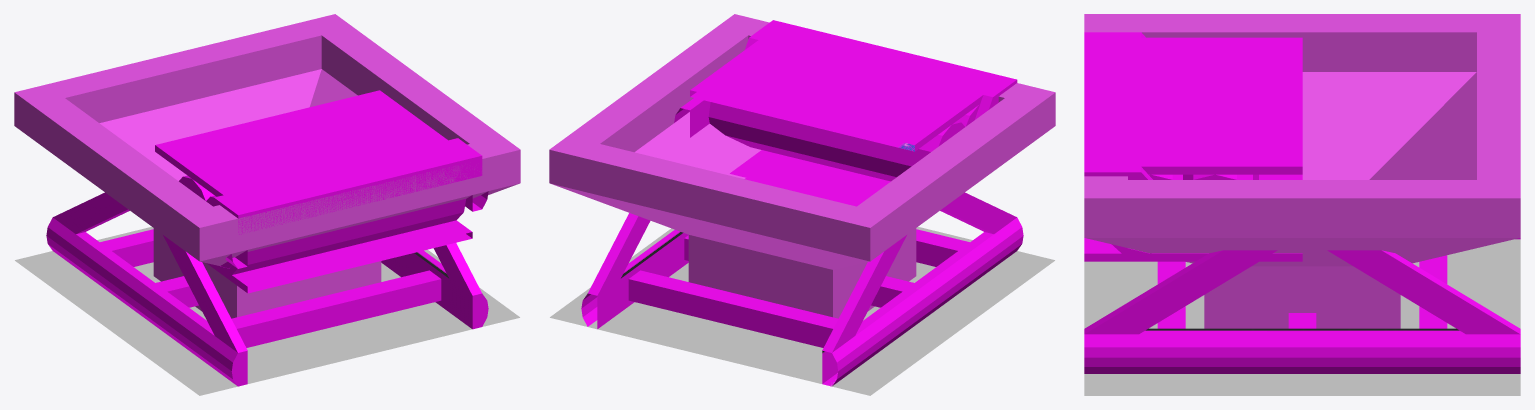
The model's file is conveyor.obj.
The picture shows the model from 3 angles, left to right: view 1: azimuth 30°, elevation 25°; view 2: azimuth 150°, elevation 25°; view 3: azimuth 270°, elevation 25°; orthographic projection. The views are drawn at different scales.
Visible parts, largest first — view 1: Conveyor_Hopper_chmdl, Support_smdl, Conveyor_Straight_csmdl, Reference_rplane, Conveyor_End_cemdl, Conveyor_End_Cap_cecmdl; view 2: Conveyor_Hopper_chmdl, Support_smdl, Conveyor_Straight_csmdl, Conveyor_End_cemdl, Reference_rplane, Conveyor_End_Cap_cecmdl; view 3: Conveyor_Hopper_chmdl, Support_smdl, Conveyor_End_cemdl, Reference_rplane, Conveyor_Straight_csmdl, Conveyor_End_Cap_cecmdl.
Boxes of the visible parts, x1,y1,x2,y2 form: Conveyor_Hopper_chmdl: (14, 14, 520, 318); Support_smdl: (46, 192, 481, 385); Conveyor_Straight_csmdl: (155, 104, 488, 293); Reference_rplane: (15, 227, 519, 395); Conveyor_End_cemdl: (155, 90, 488, 386); Conveyor_End_Cap_cecmdl: (210, 138, 482, 234); Conveyor_Hopper_chmdl: (549, 14, 1055, 318); Support_smdl: (581, 192, 1023, 386); Conveyor_Straight_csmdl: (690, 24, 1003, 204); Conveyor_End_cemdl: (674, 43, 979, 206); Reference_rplane: (550, 227, 1054, 395); Conveyor_End_Cap_cecmdl: (745, 20, 1017, 119); Conveyor_Hopper_chmdl: (1084, 14, 1520, 328); Support_smdl: (1084, 238, 1520, 373); Conveyor_End_cemdl: (1112, 37, 1302, 261); Reference_rplane: (1084, 239, 1520, 395); Conveyor_Straight_csmdl: (1084, 37, 1302, 261); Conveyor_End_Cap_cecmdl: (1084, 32, 1152, 179).
Size of the model in its own units: 1 by 0.51 by 1.
